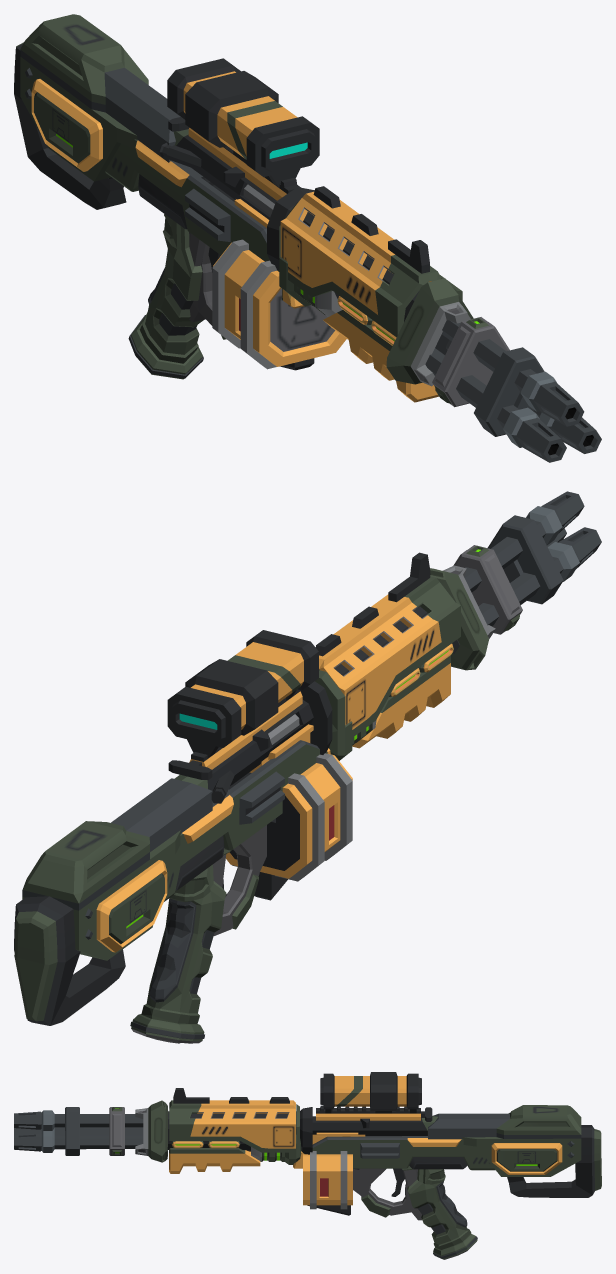
The model's file is SM_Wep_AssaultRifle_01.fbx.
3 views of the same model, one above another, from view 1: azimuth 30°, elevation 25°; view 2: azimuth 150°, elevation 25°; view 3: azimuth 270°, elevation 25° (orthographic). The views are drawn at different scales.
Visible parts, largest first — view 1: SM_Wep_AssaultRifle_01; view 2: SM_Wep_AssaultRifle_01; view 3: SM_Wep_AssaultRifle_01.
Boxes of the visible parts, box(x1,y1,x2,y2) form: SM_Wep_AssaultRifle_01: box(14, 14, 601, 462); SM_Wep_AssaultRifle_01: box(14, 491, 601, 1043); SM_Wep_AssaultRifle_01: box(14, 1072, 601, 1259).
Bounding box in the file's own units: 56.88 × 167 × 500.
